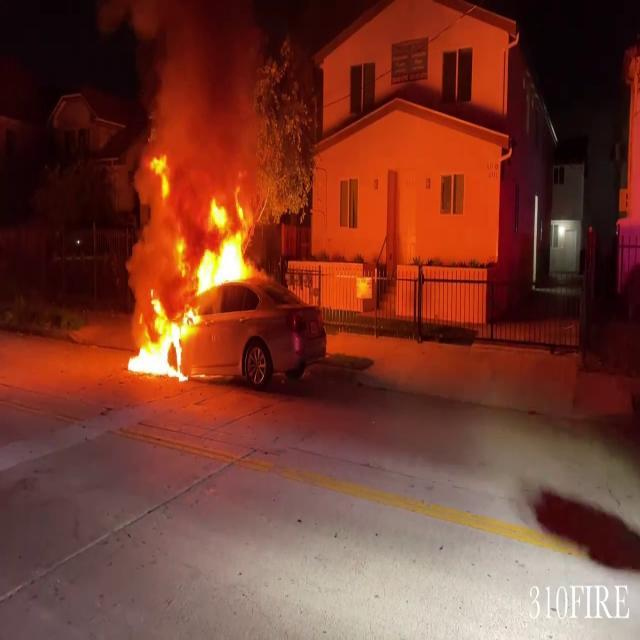Fire: (117, 146, 263, 380), (195, 192, 264, 304)
